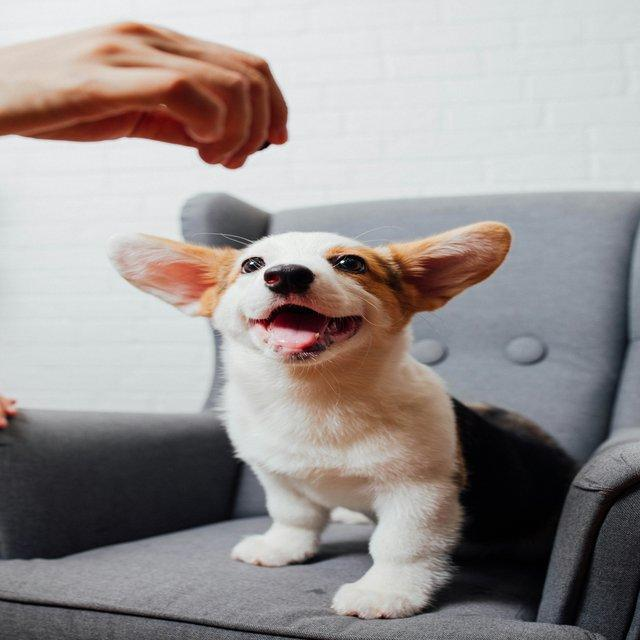corgi: (107, 219, 579, 620)
